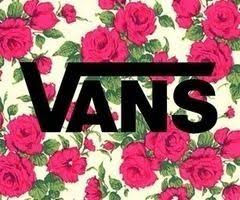vans: (19, 62, 218, 134)
